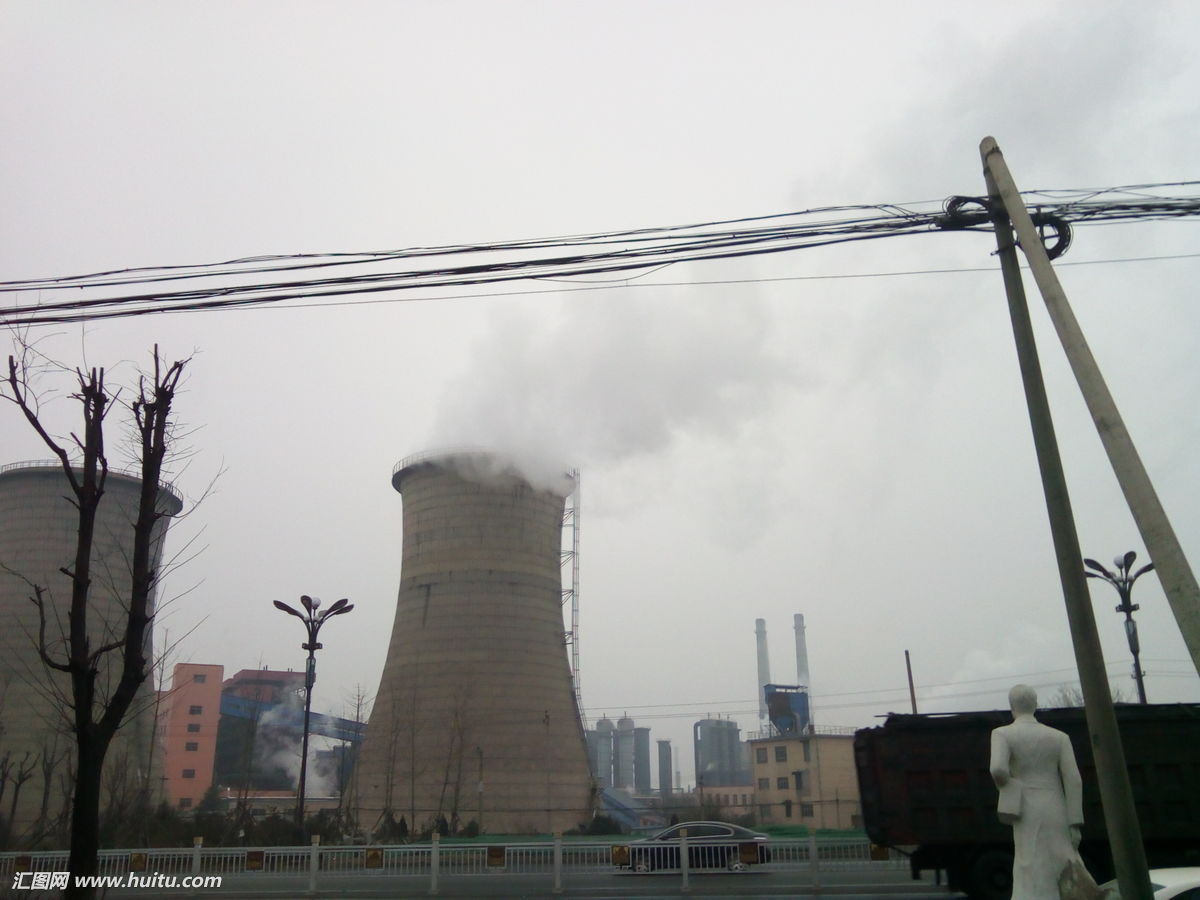dust: (393, 246, 773, 487)
